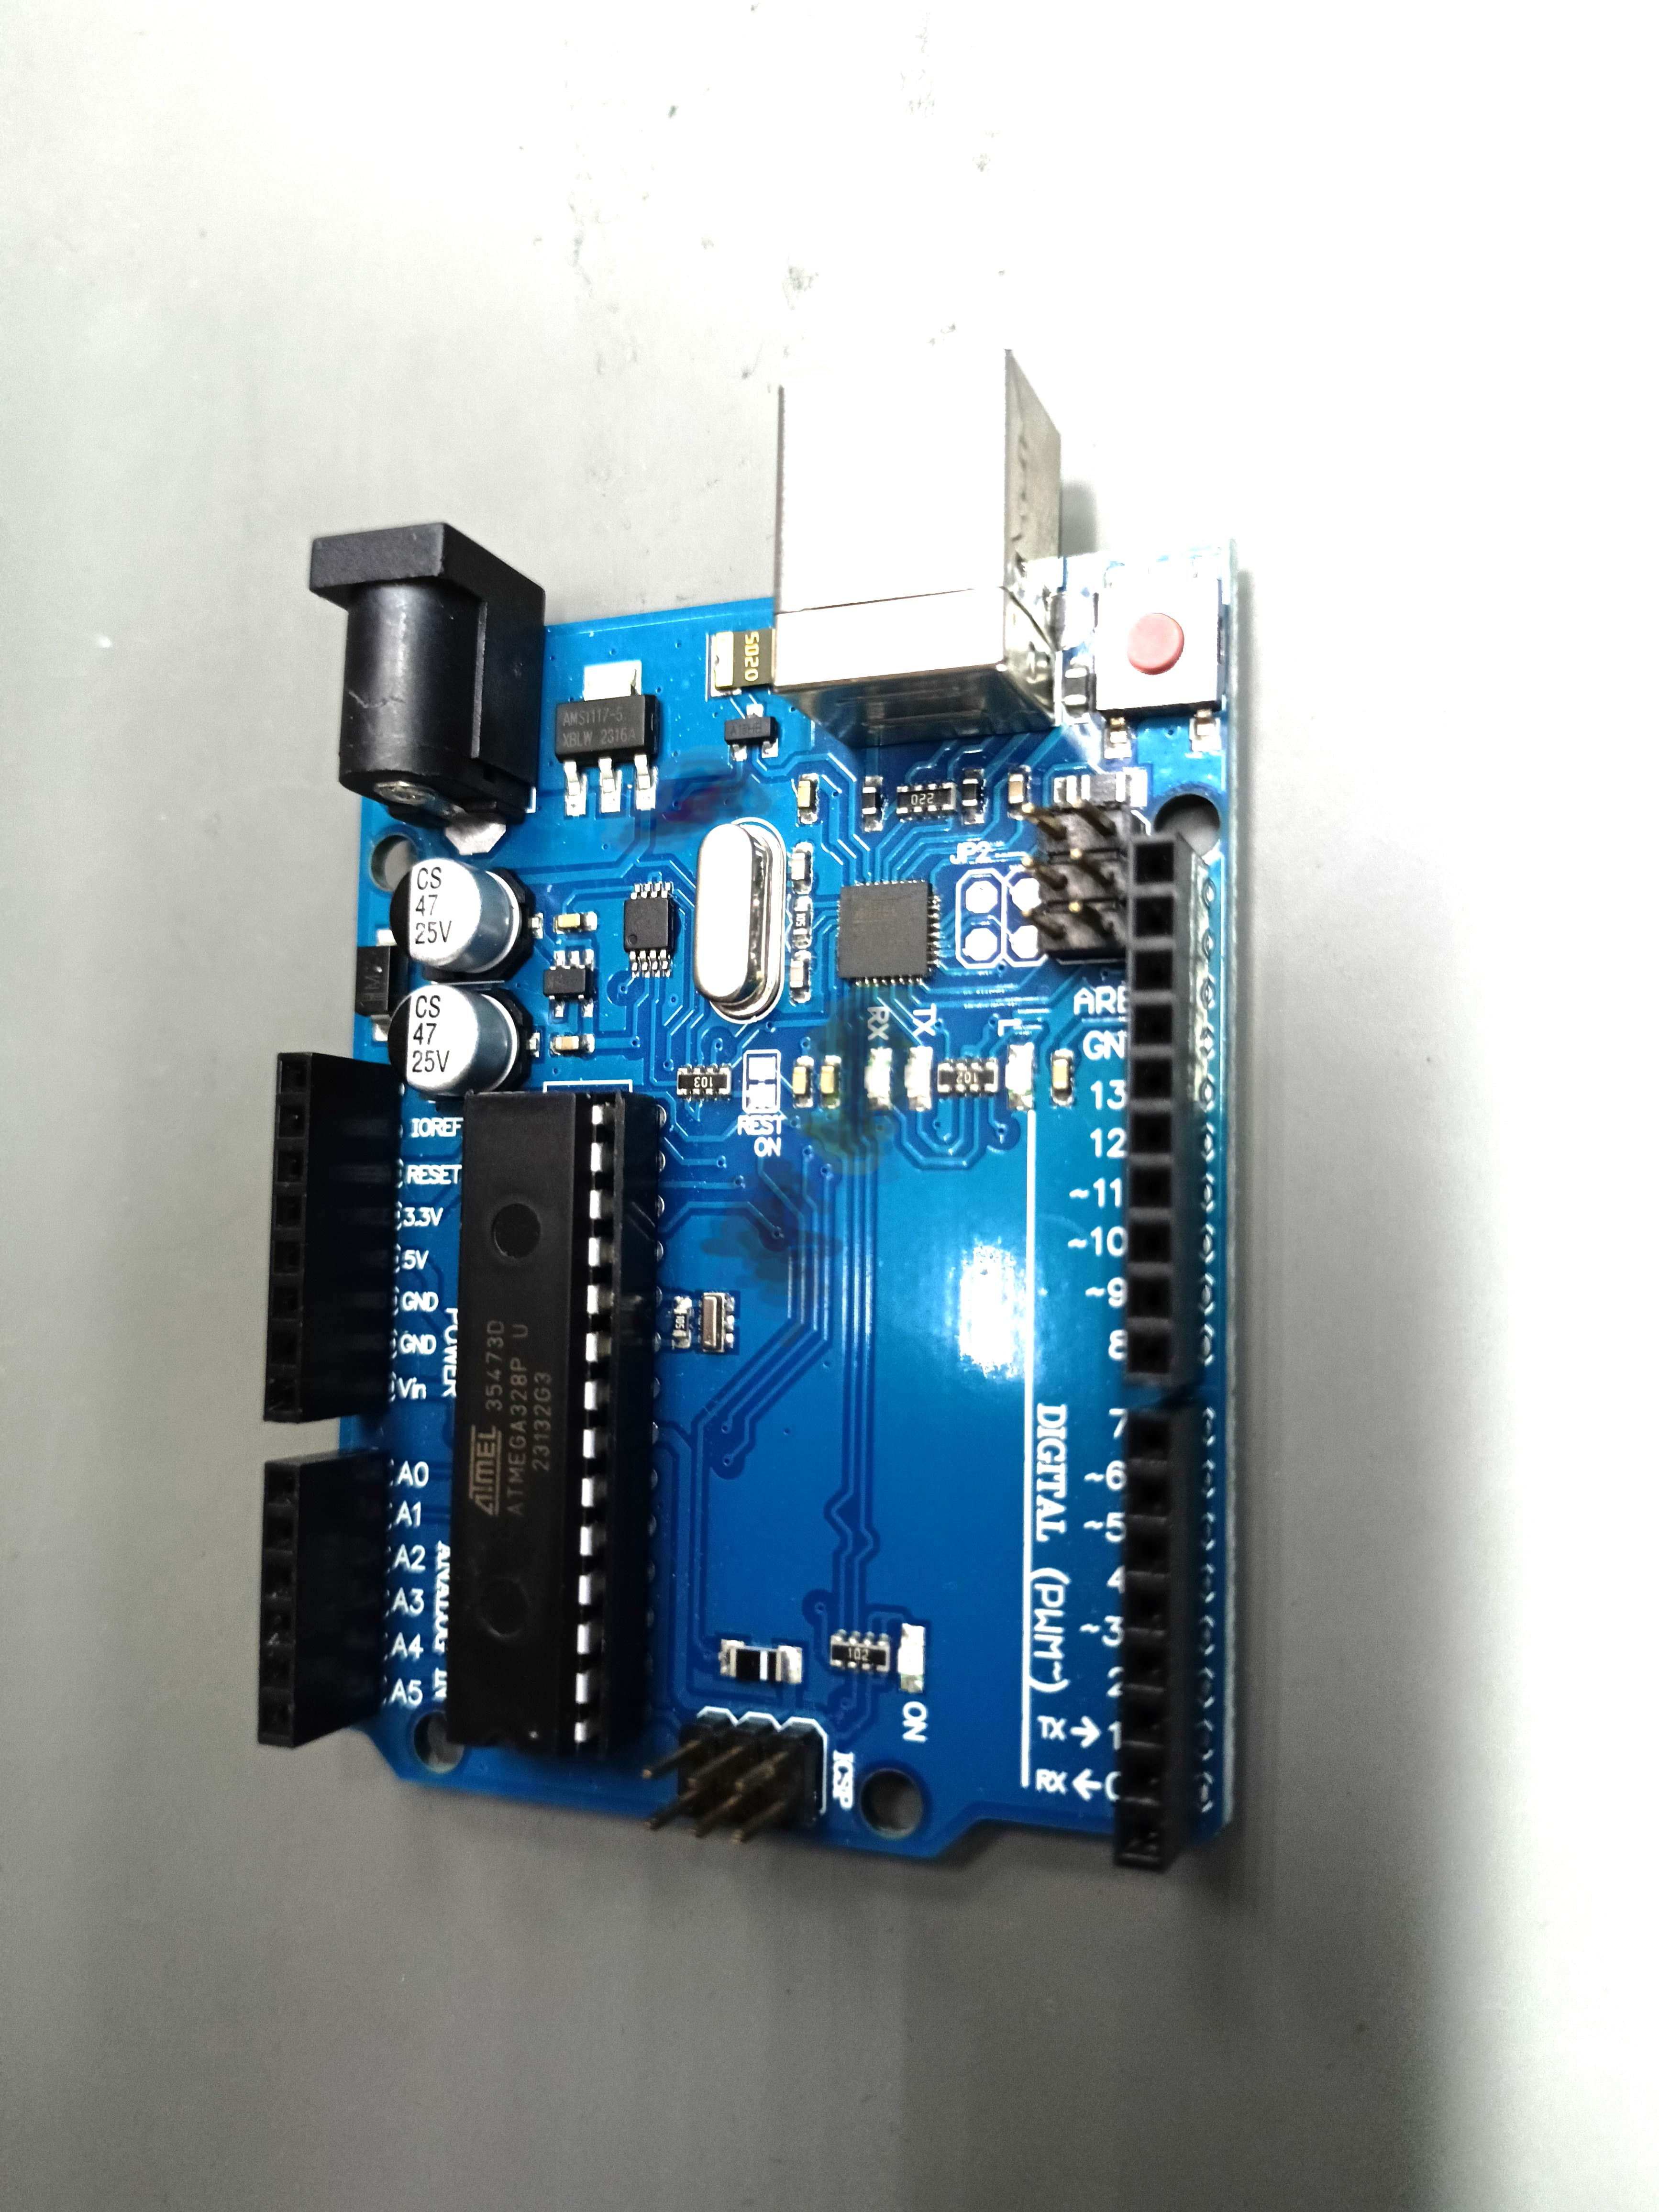ATmega328 chip: (446, 1089, 659, 1761)
Arduino board: (258, 345, 1239, 1874)
Overheat: (699, 1153, 843, 1345), (788, 984, 917, 1174), (605, 751, 777, 850)
USB: (772, 345, 1061, 749)
capacitor: (389, 857, 535, 984), (387, 984, 535, 1101)
pins: (263, 1052, 403, 1425), (1124, 833, 1209, 1386), (1114, 1395, 1208, 1874), (258, 1449, 392, 1747)
resistor: (829, 1632, 890, 1672), (896, 780, 957, 817), (938, 1059, 999, 1094), (676, 1066, 732, 1099)
